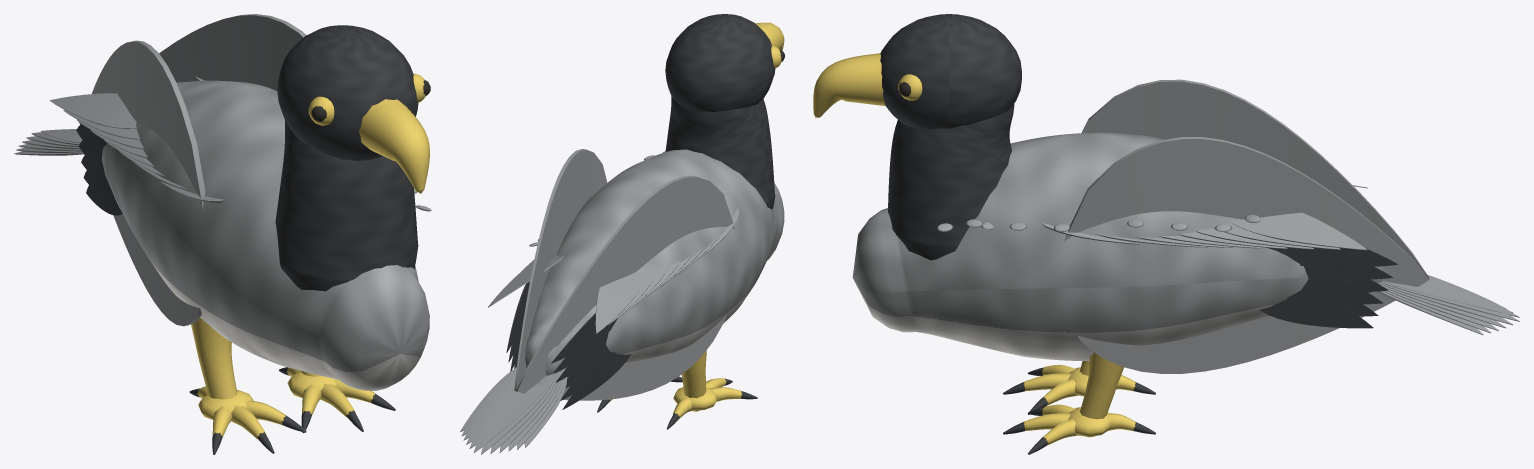
The model's file is birds-and-reptiles-hd-peregrine-falcon-54409446__28081.glb.
The picture shows the model from 3 angles, left to right: view 1: azimuth 30°, elevation 25°; view 2: azimuth 150°, elevation 25°; view 3: azimuth 270°, elevation 25°; orthographic projection. The views are drawn at different scales.
Visible parts, largest first — view 1: peregrine-falcon; view 2: peregrine-falcon; view 3: peregrine-falcon.
Part boxes in pixels (x1,y1,x2,y2): peregrine-falcon: (14,14,431,454); peregrine-falcon: (460,14,784,454); peregrine-falcon: (813,14,1519,454).
Bounding box in the file's own units: 0.1788 × 0.4048 × 0.6548.
Materials: 5 (3 with a texture image).
